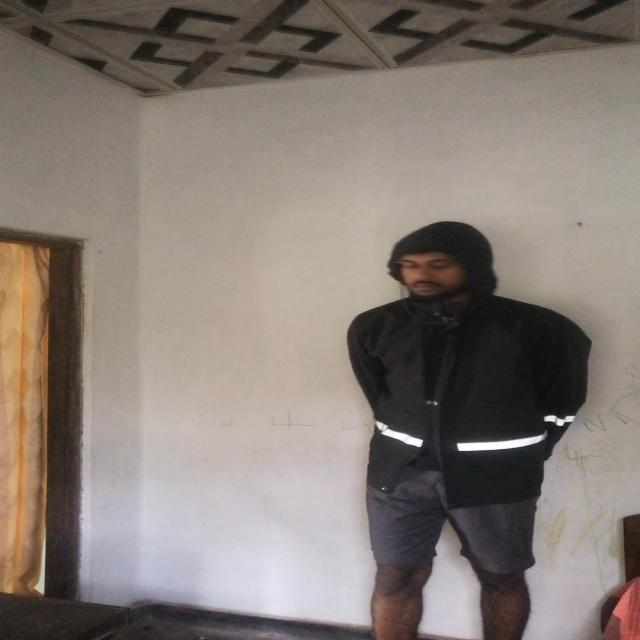Jacket_Wearer: (367, 223, 581, 511)
